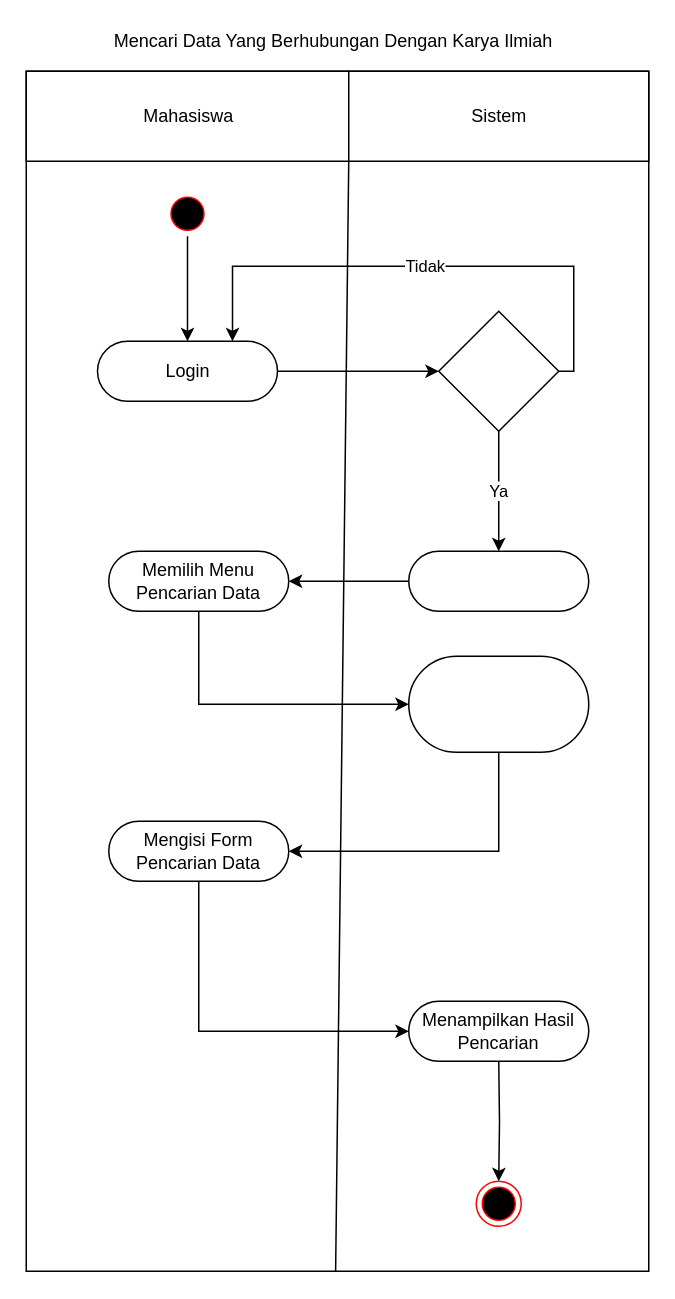
The diagram is 675 pixels wide and 1299 high, and some of its shapes have lost their labels. Here are the shapes that lost their labels. From the top down, the box of each, then its label:
(437, 310, 559, 431): Cek Login
(407, 550, 589, 611): Menampilkan Halaman Utama
(407, 655, 589, 752): Menampilkan Form Pencarian Data
